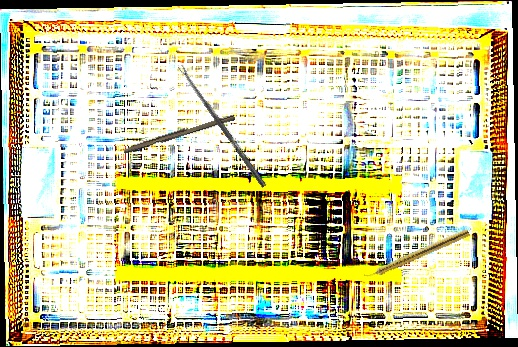Handpiece: (362, 226, 471, 282)
Scalpel Handle: (122, 111, 236, 156)
Surgical Spoon: (177, 64, 268, 188)
